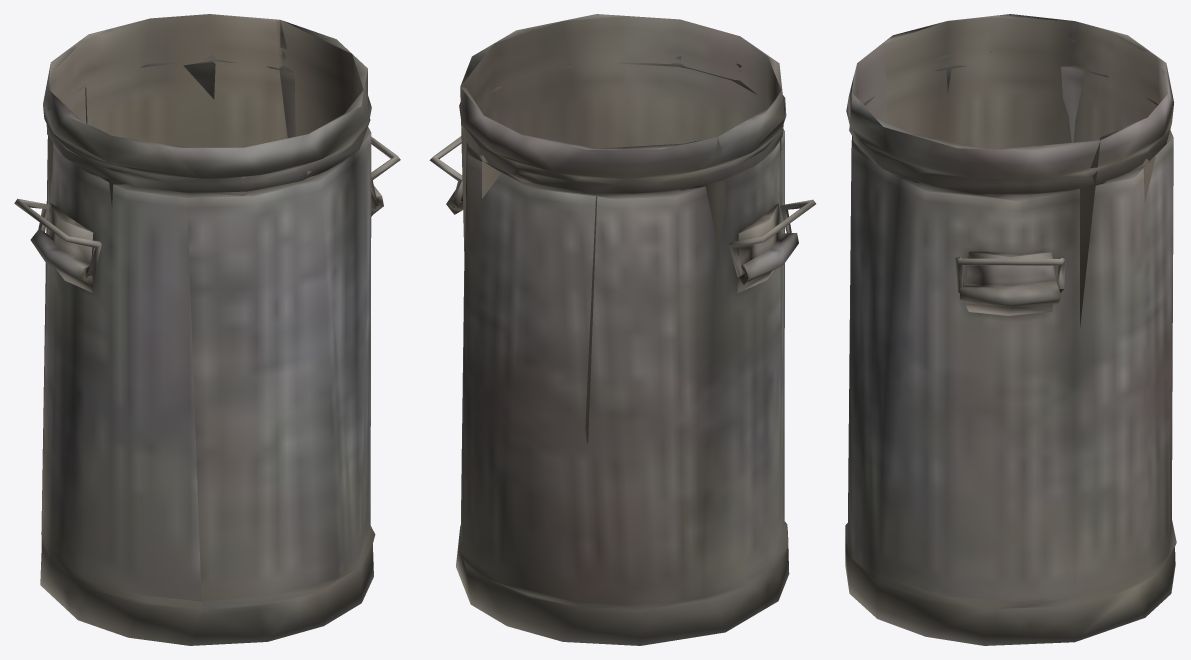
The model's file is bin_metal_lod1.glb.
3 renders of one model, left to right at view 1: azimuth 30°, elevation 25°; view 2: azimuth 150°, elevation 25°; view 3: azimuth 270°, elevation 25°, orthographic.
Visible parts, largest first — view 1: bin_metal.001; view 2: bin_metal.001; view 3: bin_metal.001.
Part boxes in pixels (left/top/right/bottom): bin_metal.001: left=14, top=14, right=400, bottom=645; bin_metal.001: left=429, top=14, right=815, bottom=645; bin_metal.001: left=845, top=14, right=1176, bottom=645.
Size of the model in its own units: 0.6439 by 0.9062 by 0.5519.
1 material, 1 textured.
